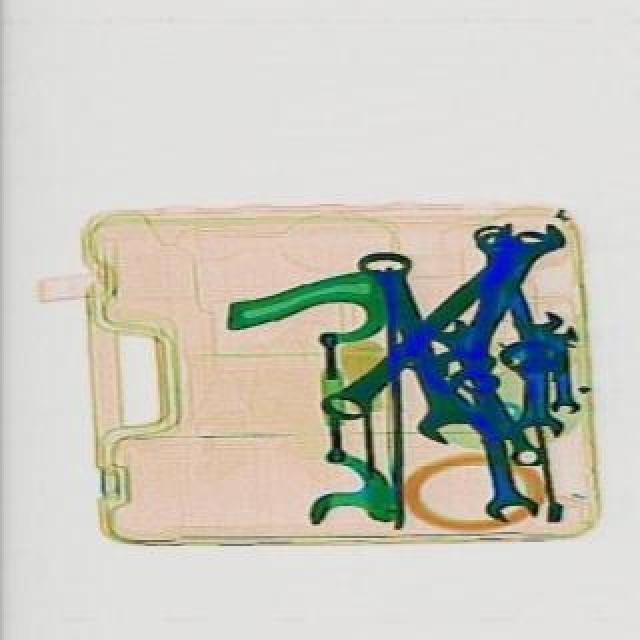scissors: (310, 212, 552, 432), (340, 240, 490, 452), (420, 308, 548, 472), (428, 336, 536, 528), (506, 310, 562, 438), (540, 320, 576, 416)
